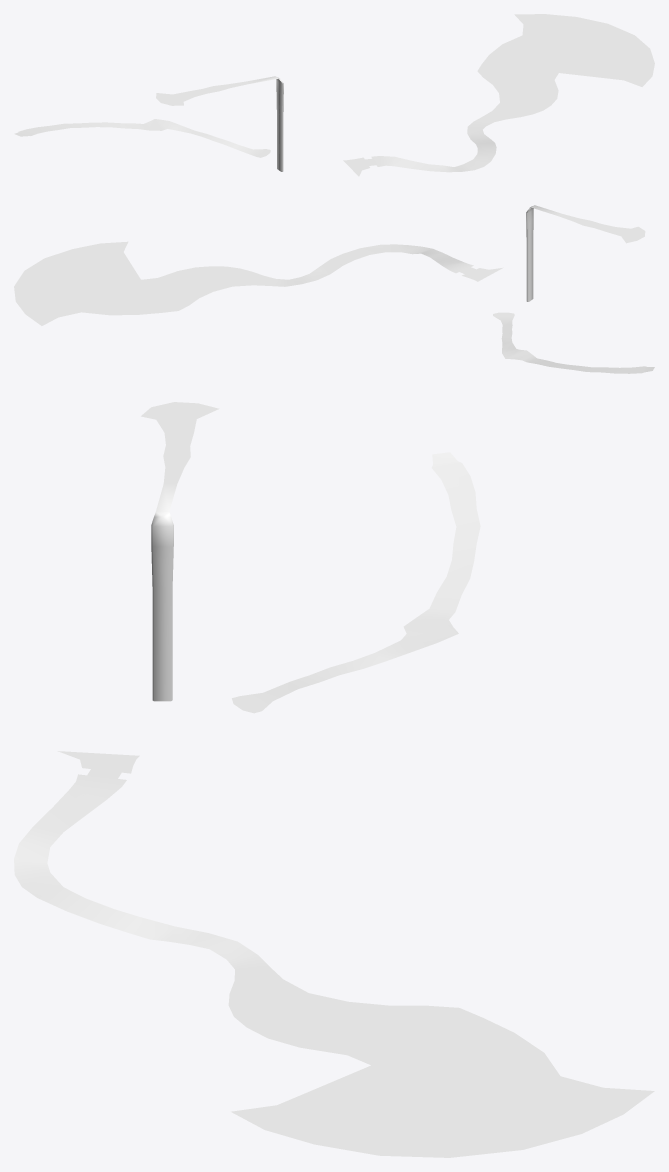
Rendered from FP_jog_island.md.037.obj.
The picture shows the model from 3 angles, top to bottom: view 1: azimuth 30°, elevation 25°; view 2: azimuth 150°, elevation 25°; view 3: azimuth 270°, elevation 25°; orthographic projection. The views are drawn at different scales.
Parts seen in each view (by area): view 1: FP_jog_island.mo.037; view 2: FP_jog_island.mo.037; view 3: FP_jog_island.mo.037.
Part boxes in pixels (x1,y1,x2,y2): FP_jog_island.mo.037: (14,14,654,176); FP_jog_island.mo.037: (14,205,654,373); FP_jog_island.mo.037: (14,402,654,1157).
Bounding box in the file's own units: 75.71 × 13.48 × 34.11.
1 material, 1 textured.
